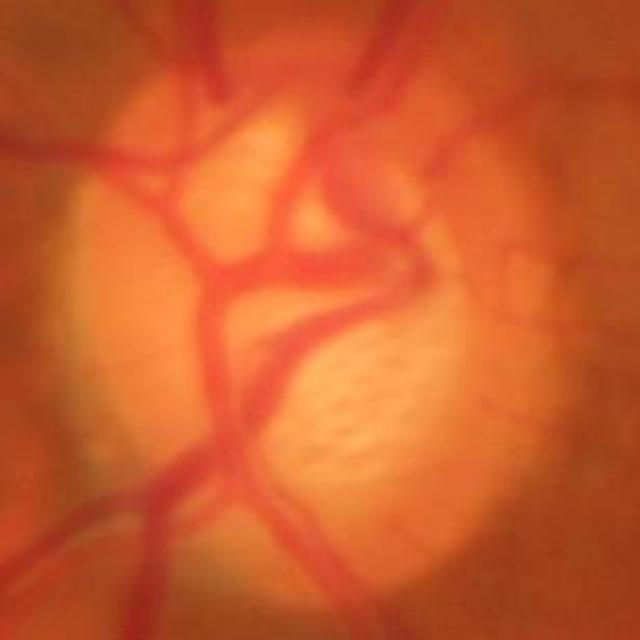OC: (169, 119, 469, 491)
OD: (48, 13, 561, 609)
